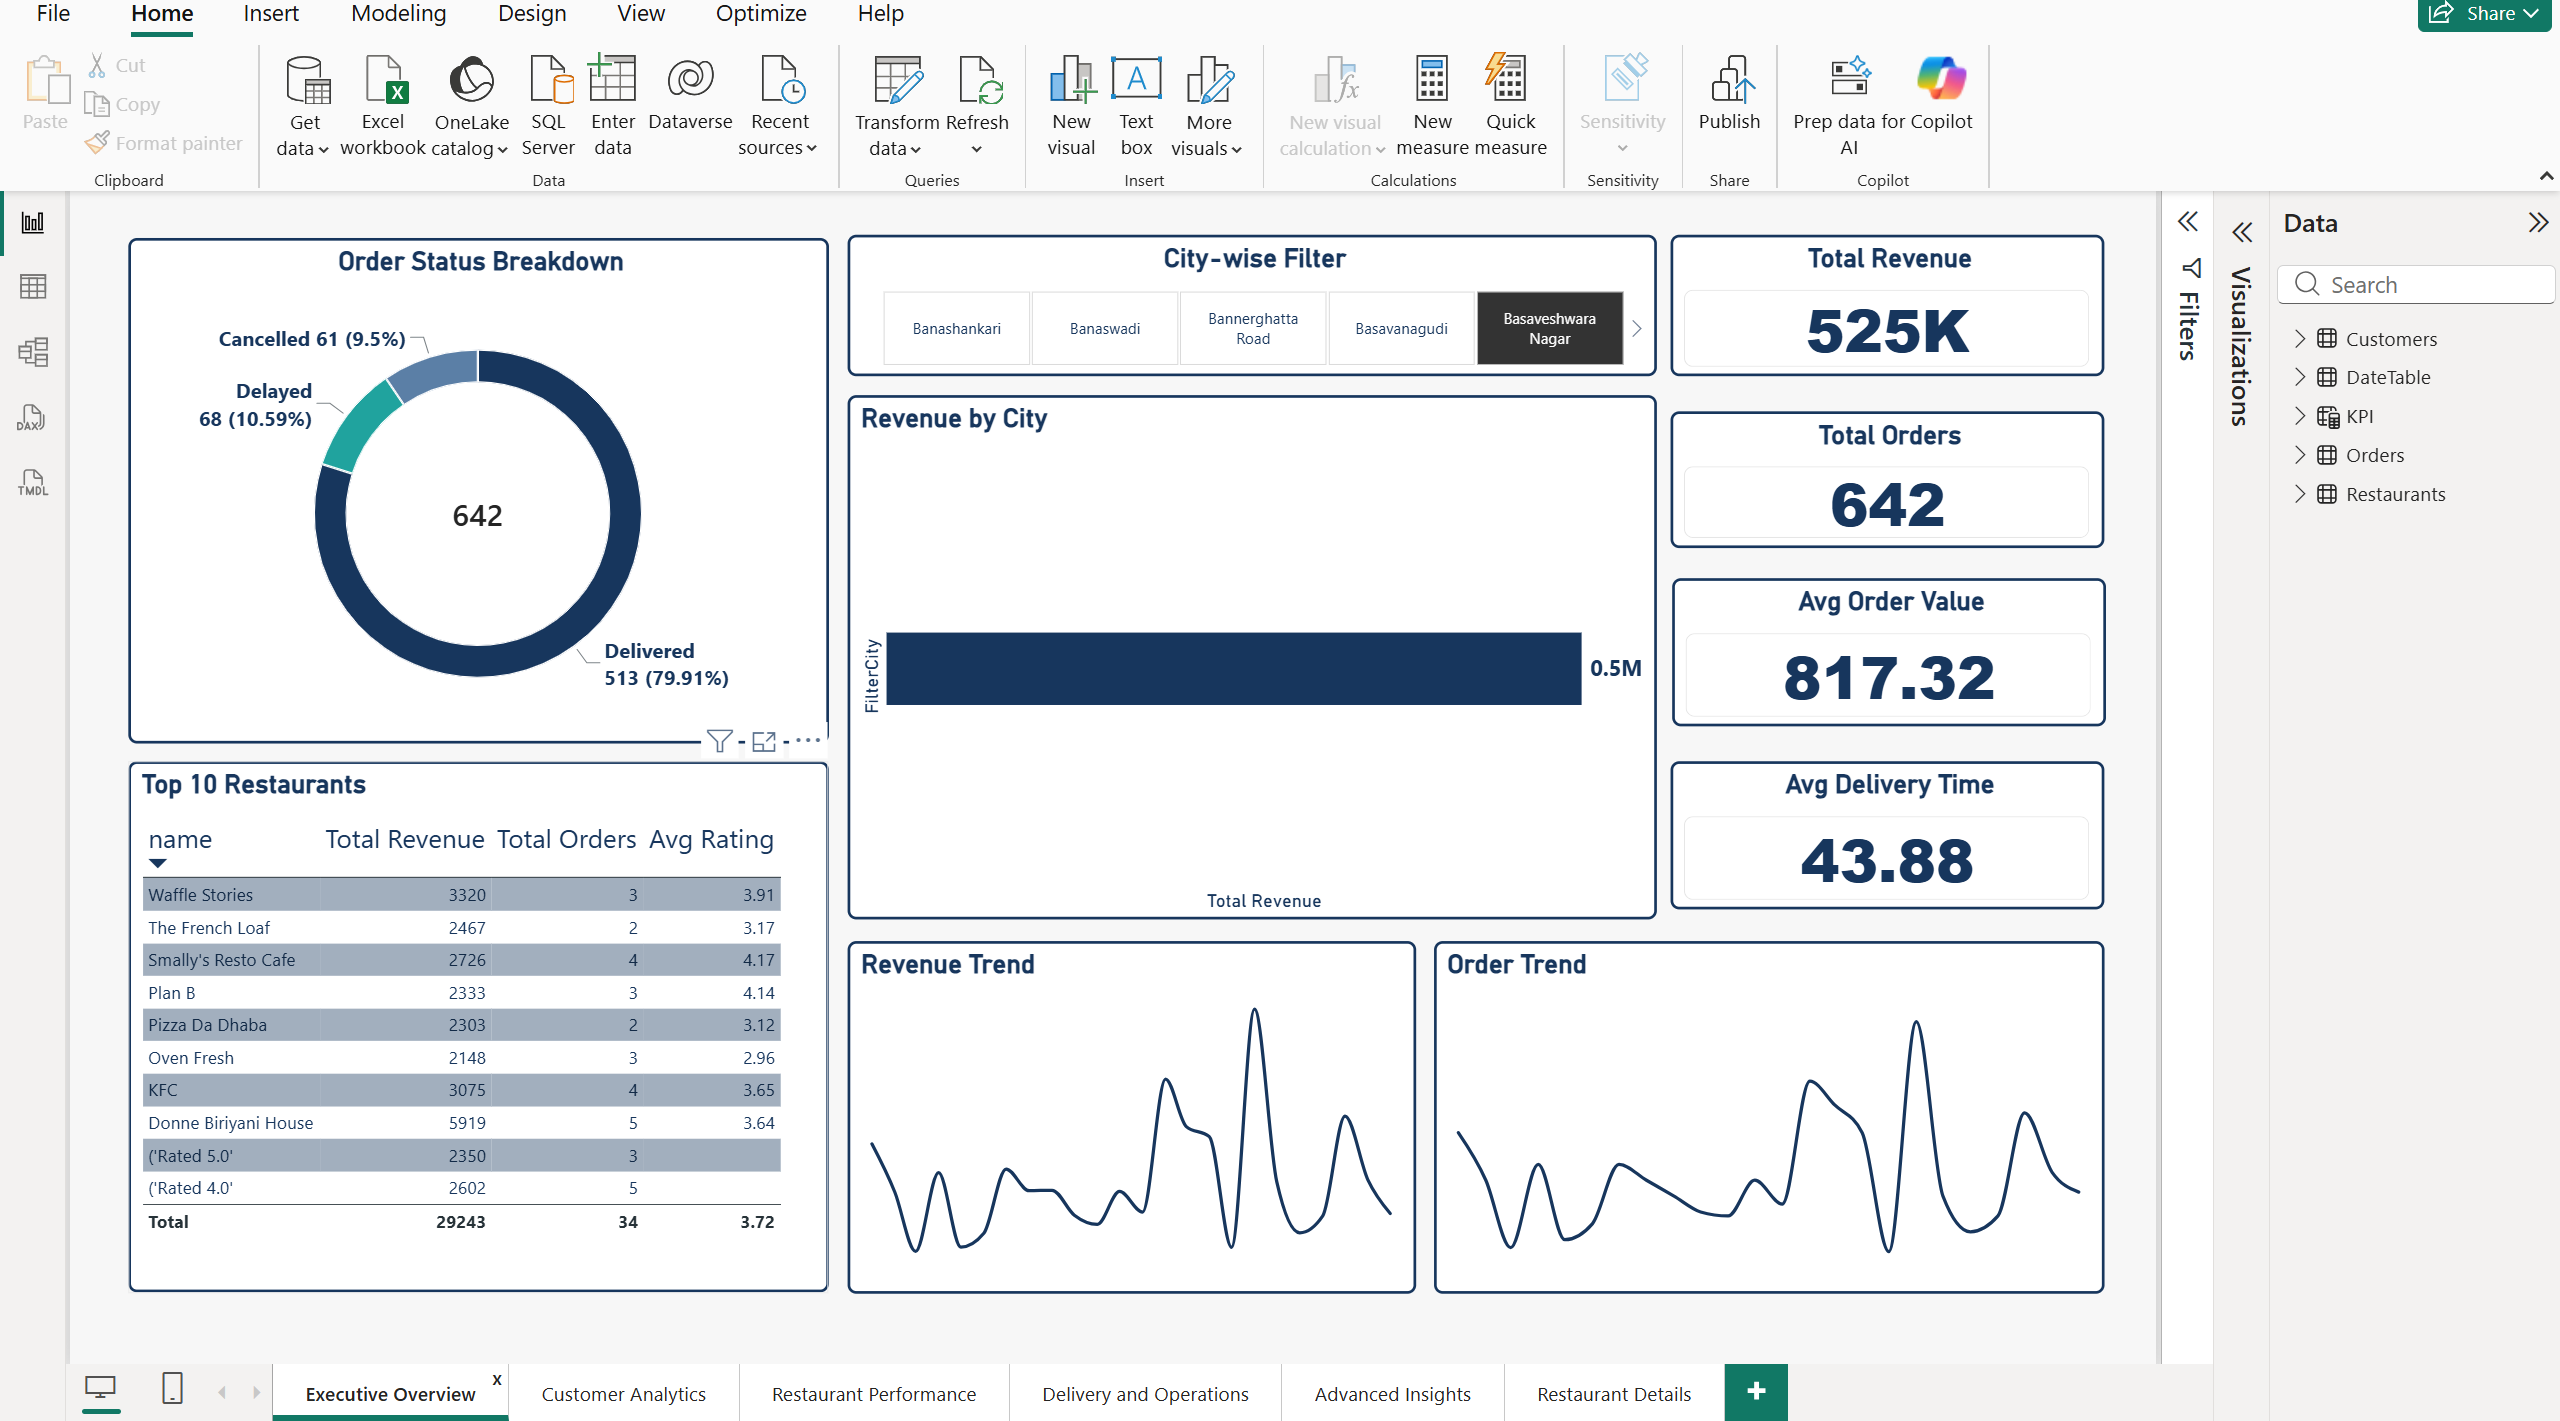

The dashboard page shown, as its layout file describes it:
{"tool":"powerbi","page":{"name":"Executive Overview","canvas":[1920,1080],"ordinal":0},"visuals":[{"type":"cardVisual","title":"Total Revenue","fields":{"Data":["Orders.Total Revenue"]},"box":[1473.6,40.6,399.4,130.3],"z":0},{"type":"cardVisual","title":"Total Orders","fields":{"Data":["Orders.Total Orders"]},"box":[1473.6,202.9,399.4,126],"z":1000},{"type":"cardVisual","title":"Avg Order Value","fields":{"Data":["Orders.Avg Order Value"]},"box":[1475.7,356.7,399.4,136.7],"z":2000},{"type":"cardVisual","title":"Avg Delivery Time","fields":{"Data":["Orders.Avg Delivery Time"]},"box":[1473.6,525.4,399.4,136.7],"z":3000},{"type":"lineChart","title":"Revenue Trend","fields":{"Category":["Customers.SignupDate.Variation.Date Hierarchy.Year","Customers.SignupDate.Variation.Date Hierarchy.Quarter","Customers.SignupDate.Variation.Date Hierarchy.Month"],"Y":["Orders.Total Revenue"]},"box":[715.4,689.8,523.2,324.6],"z":4000},{"type":"lineChart","title":"Order Trend","fields":{"Category":["Customers.SignupDate.Variation.Date Hierarchy.Year","Customers.SignupDate.Variation.Date Hierarchy.Quarter","Customers.SignupDate.Variation.Date Hierarchy.Month"],"Y":["Orders.Total Orders"]},"box":[1255.8,689.8,617.2,324.6],"z":5000},{"type":"barChart","title":"Revenue by City","fields":{"Category":["Customers.FilterCity"],"Y":["Orders.Total Revenue"]},"box":[715.4,187.9,745.3,482.7],"z":6000},{"type":"donutChart","title":"Order Status Breakdown","fields":{"Category":["Orders.OrderStatus"],"Y":["Orders.Total Orders"]},"box":[53.4,42.7,645,465.6],"z":7000},{"type":"tableEx","title":"Top 10 Restaurants","fields":{"Values":["Restaurants.name","Orders.Total Revenue","Orders.Total Orders","Orders.Avg Rating"]},"box":[53.4,525.4,645,489.1],"z":8000},{"type":"slicer","title":"City-wise Filter","fields":{"Values":["Customers.FilterCity"]},"box":[715.4,40.6,745.3,130.3],"z":9001}]}

Visuals, with their boxes on the page's 1920x1080 design canvas (x1, y1, x2, y2). These are canvas units, not pixel positions in the 2560x1421 screenshot, which may show the page scaled, cropped or inside an application window:
"Total Revenue" cardVisual: box=[1474, 41, 1873, 171]
"Total Orders" cardVisual: box=[1474, 203, 1873, 329]
"Avg Order Value" cardVisual: box=[1476, 357, 1875, 493]
"Avg Delivery Time" cardVisual: box=[1474, 525, 1873, 662]
"Revenue Trend" lineChart: box=[715, 690, 1239, 1014]
"Order Trend" lineChart: box=[1256, 690, 1873, 1014]
"Revenue by City" barChart: box=[715, 188, 1461, 671]
"Order Status Breakdown" donutChart: box=[53, 43, 698, 508]
"Top 10 Restaurants" tableEx: box=[53, 525, 698, 1014]
"City-wise Filter" slicer: box=[715, 41, 1461, 171]
